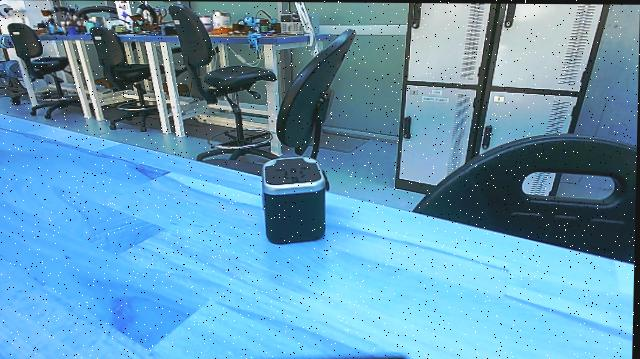adapter: (256, 153, 331, 249)
